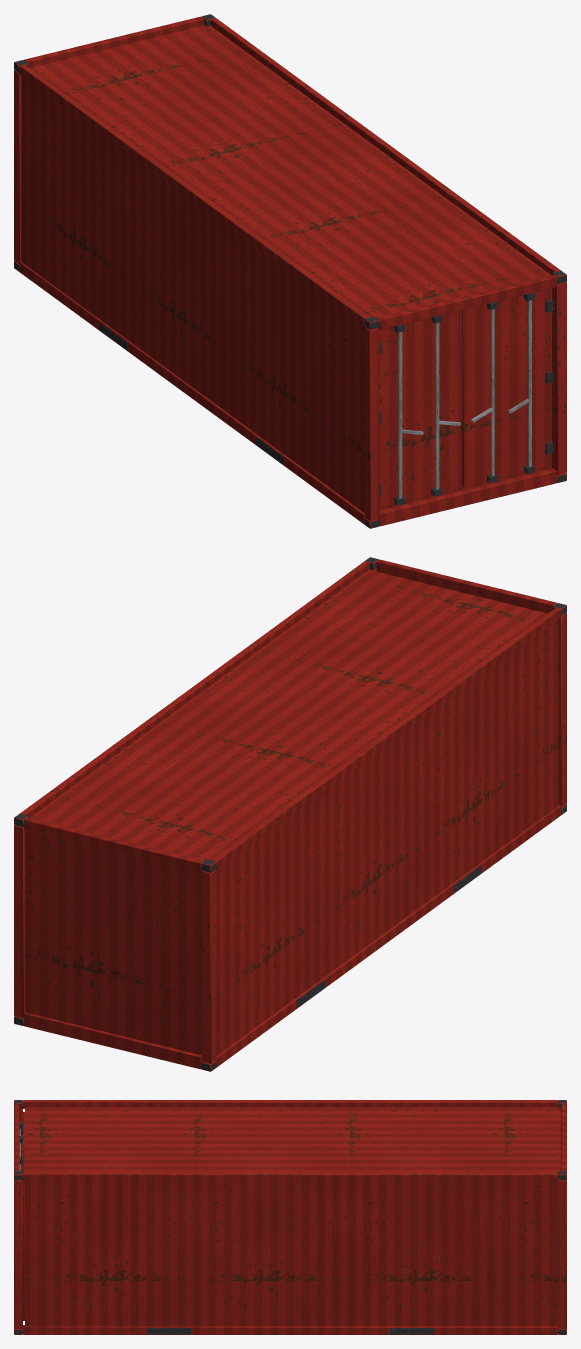
Rendered from container_red.glb.
3 renders of one model, top to bottom at view 1: azimuth 30°, elevation 25°; view 2: azimuth 150°, elevation 25°; view 3: azimuth 270°, elevation 25°, orthographic. The views are drawn at different scales.
Parts seen in each view (by area): view 1: container; view 2: container; view 3: container.
Boxes of the visible parts, x1,y1,x2,y2 form: container: [14, 14, 566, 528]; container: [14, 557, 566, 1071]; container: [14, 1100, 566, 1334].
Size of the model in its own units: 3.21 by 3.2 by 10.
Materials: 3 (3 with a texture image).
